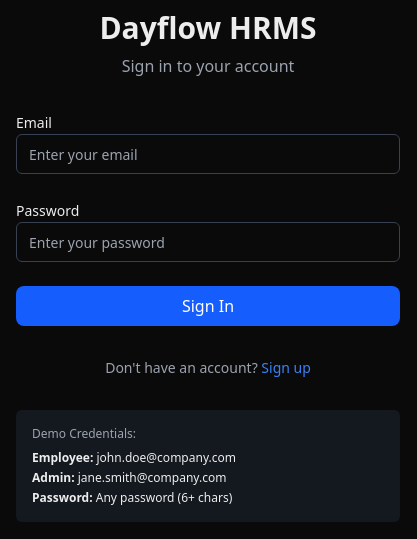
Scenario: LoginPage › should disable form during submission
Type "test@example.com" into the field labelled "Email".
click(208, 154); type("test@example.com")  # box left=16, top=134, right=400, bottom=174
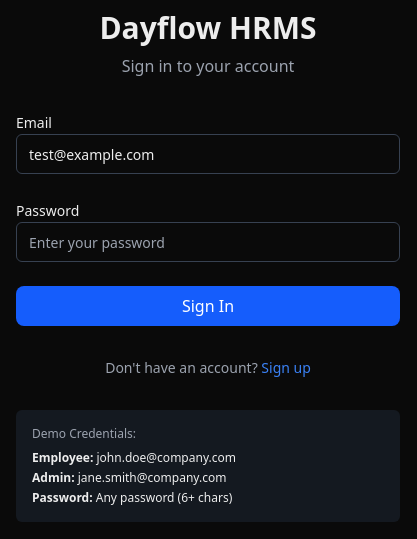
Type "password123" into the password field labelled "Password".
click(208, 242); type("password123")  # box left=16, top=222, right=400, bottom=262
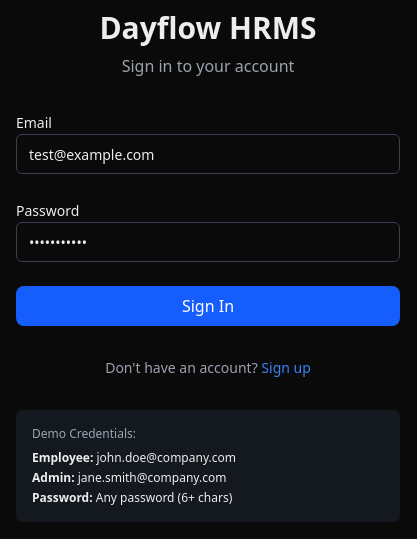
Click the button "Sign In".
click(208, 306)  # box left=16, top=286, right=400, bottom=326
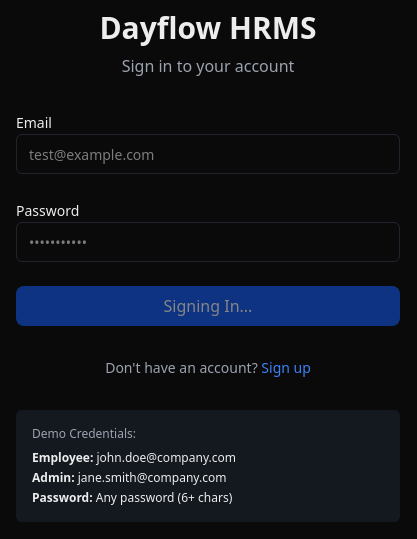
Now the field labelled "Email" is disabled, box left=16, top=134, right=400, bottom=174
Now the password field labelled "Password" is disabled, box left=16, top=222, right=400, bottom=262
Now the button named "Sign In" is disabled, box left=16, top=286, right=400, bottom=326
